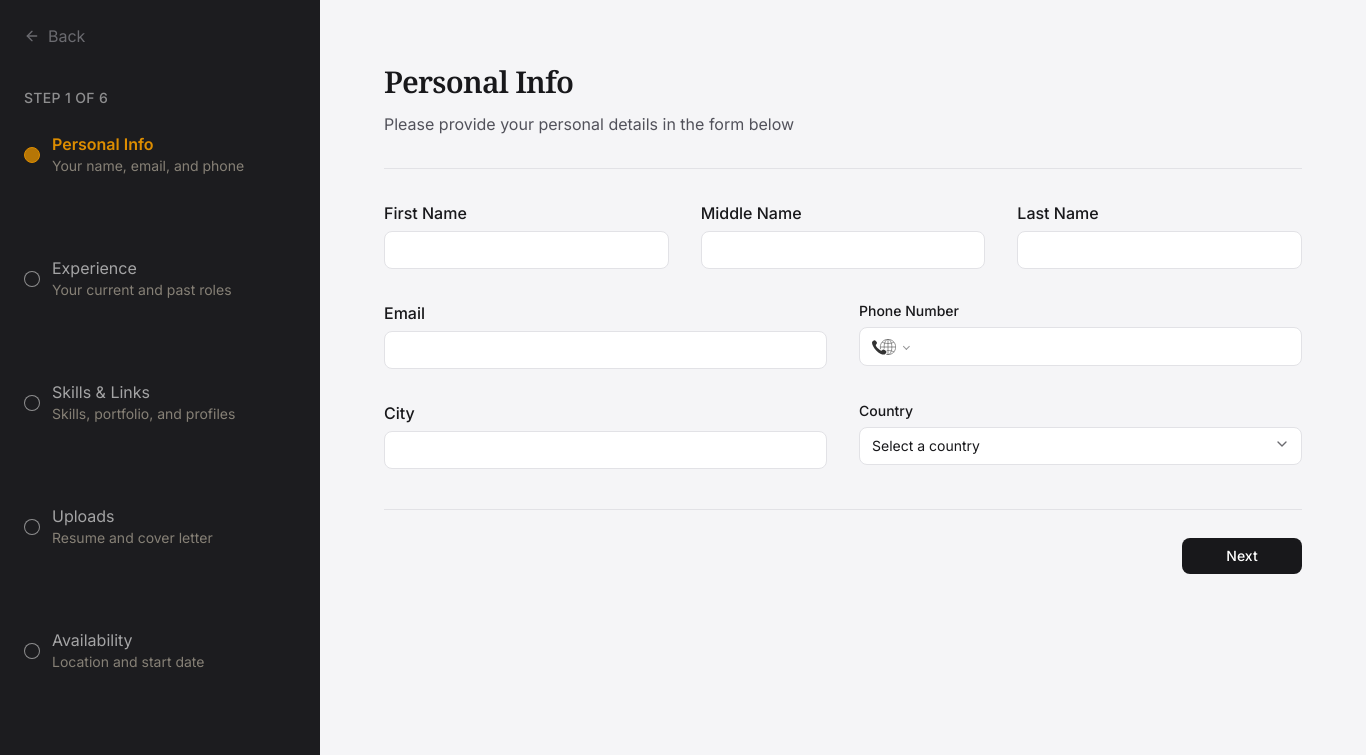
Scenario: PersonalInfoStep — fill and submit › does not navigate when a required field is left blank
Click the button "Next": (1242, 556) [1182,538,1302,574]
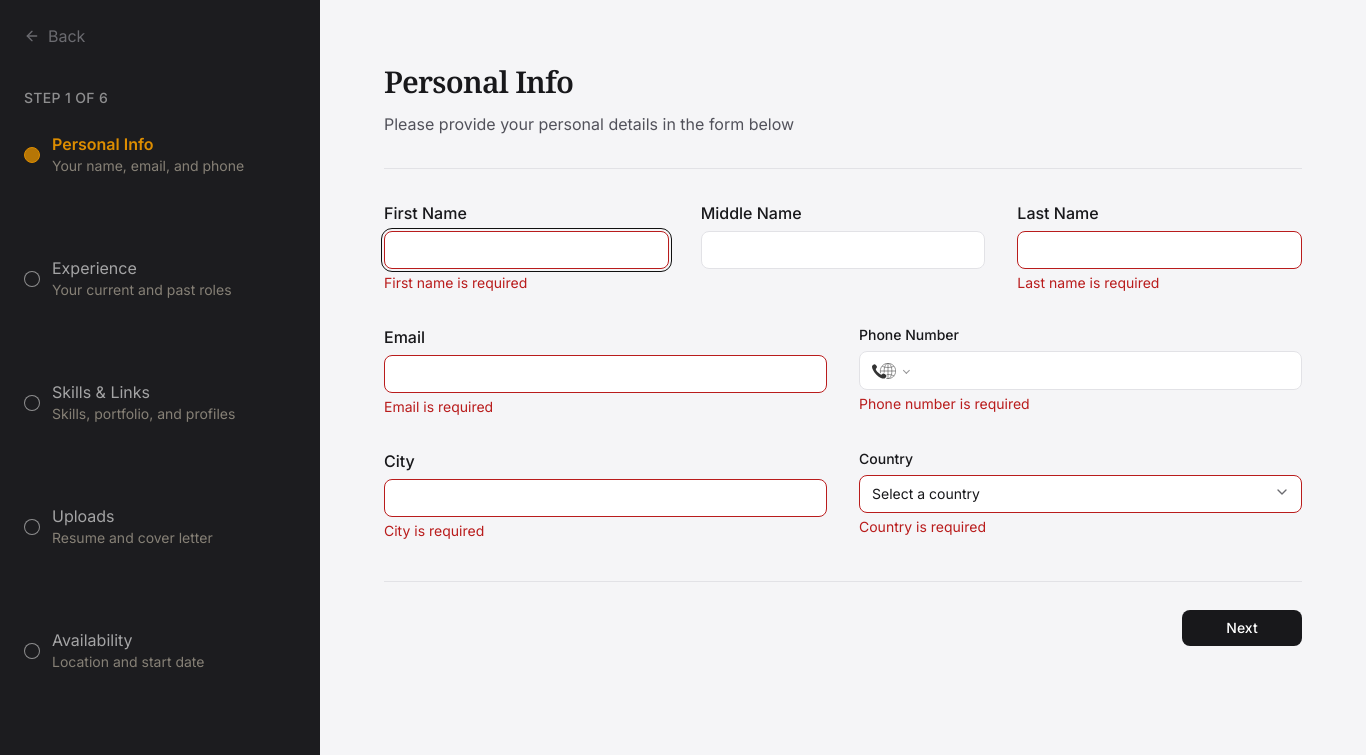
Now the text "First name is required" is shown, box [384,274,527,291]
